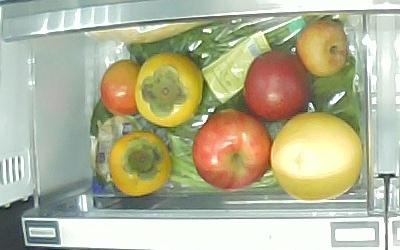apple: (193, 108, 271, 189), (245, 51, 310, 120)
grapefruit: (271, 113, 363, 200)
persimmon: (136, 51, 203, 127), (109, 131, 173, 197)
prune: (296, 21, 347, 76), (100, 60, 143, 117)
